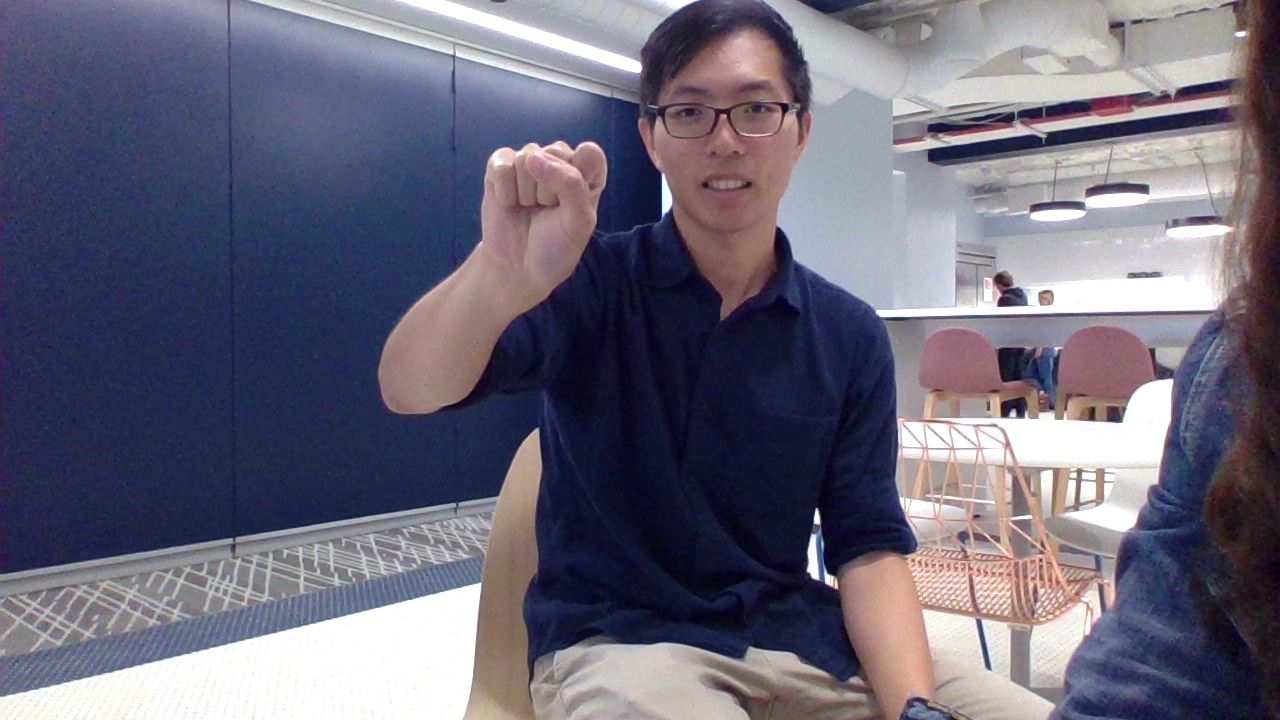s: (469, 121, 620, 310)
